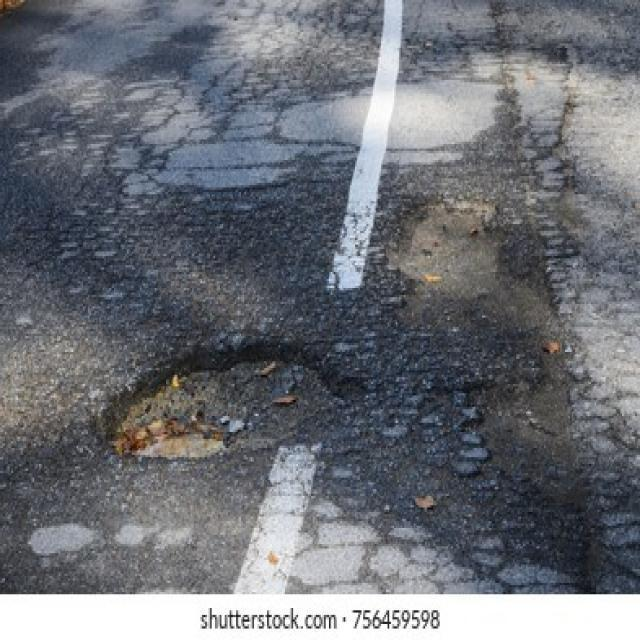pothole: (382, 193, 597, 513), (110, 348, 333, 457)
